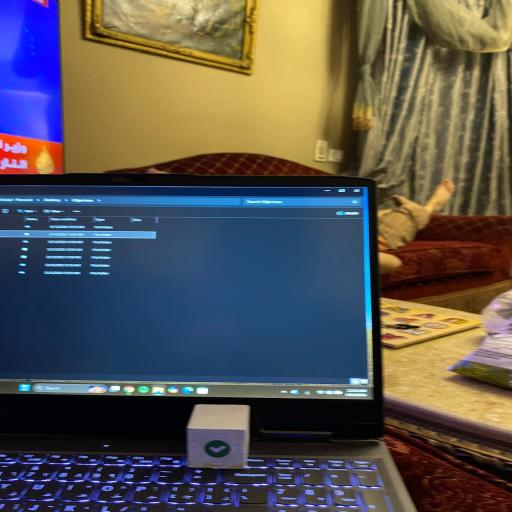Confirm: (186, 404, 250, 470)
